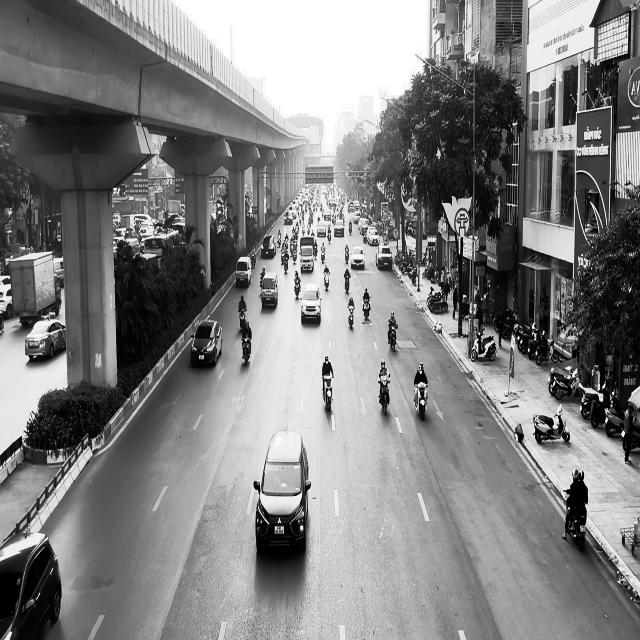car: (254, 429, 312, 553), (0, 526, 62, 640), (25, 318, 66, 361), (190, 319, 222, 367), (301, 282, 322, 324), (260, 271, 278, 309), (235, 256, 252, 287), (351, 246, 365, 268)
motorbike: (563, 489, 587, 550), (533, 404, 570, 443), (471, 325, 497, 361), (414, 382, 428, 421), (378, 375, 391, 415), (322, 374, 334, 411), (242, 334, 252, 365), (388, 322, 397, 351), (362, 296, 371, 321), (348, 303, 355, 328), (239, 309, 247, 330), (344, 271, 351, 293), (294, 277, 301, 298), (324, 269, 330, 290), (345, 249, 349, 264)
truck: (6, 250, 62, 327)
